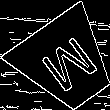M_SE: (32, 29, 101, 97)
